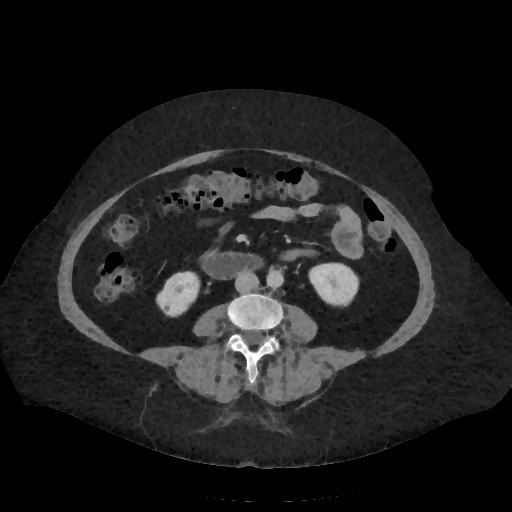Lesion: (160, 306, 170, 313)
